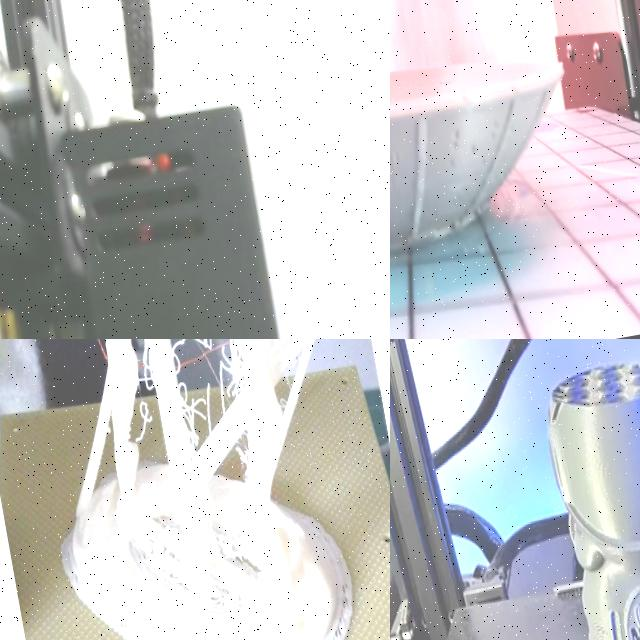spaghetti: (103, 339, 332, 640), (121, 477, 248, 609), (147, 339, 258, 450), (229, 437, 281, 625), (242, 339, 341, 418), (112, 339, 167, 404)
